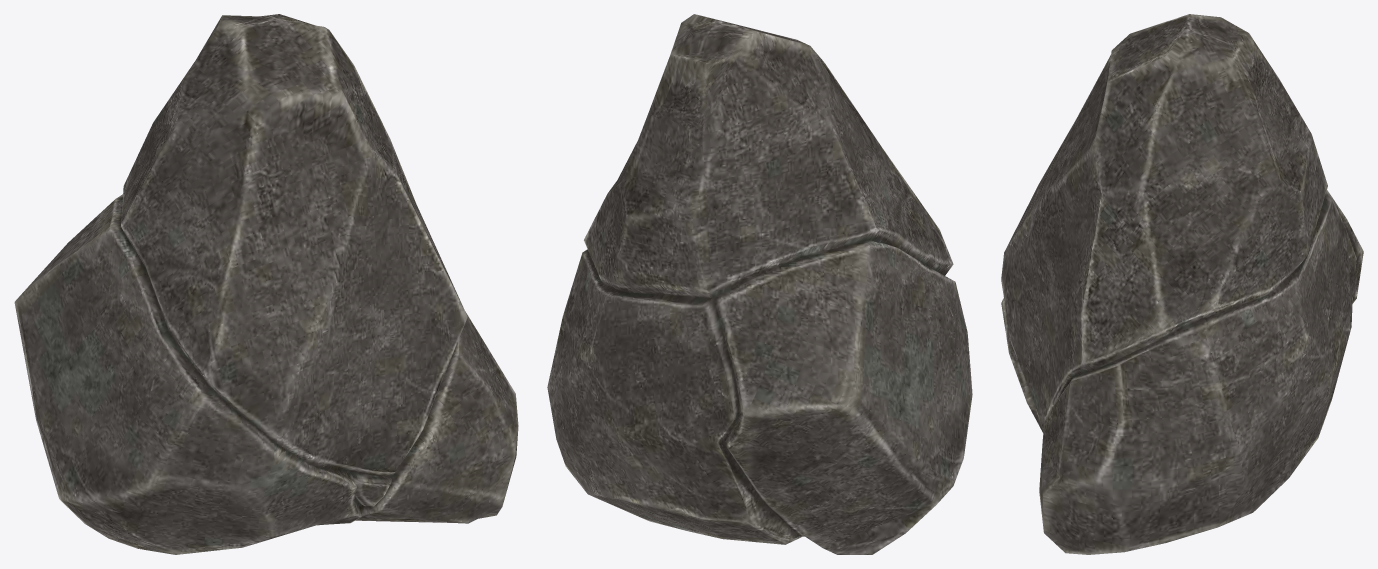
File: meeting-rock.glb
3 renders of one model, left to right at view 1: azimuth 30°, elevation 25°; view 2: azimuth 150°, elevation 25°; view 3: azimuth 270°, elevation 25°, orthographic. The views are drawn at different scales.
Visible parts, largest first — view 1: meeting_rock; view 2: meeting_rock; view 3: meeting_rock.
Boxes of the visible parts, left/top/right/bottom form: meeting_rock: left=14, top=14, right=518, bottom=554; meeting_rock: left=547, top=14, right=972, bottom=554; meeting_rock: left=1001, top=14, right=1363, bottom=554.
Bounding box in the file's own units: 0.4075 × 0.4632 × 0.3312.
Materials: 1 (1 with a texture image).
